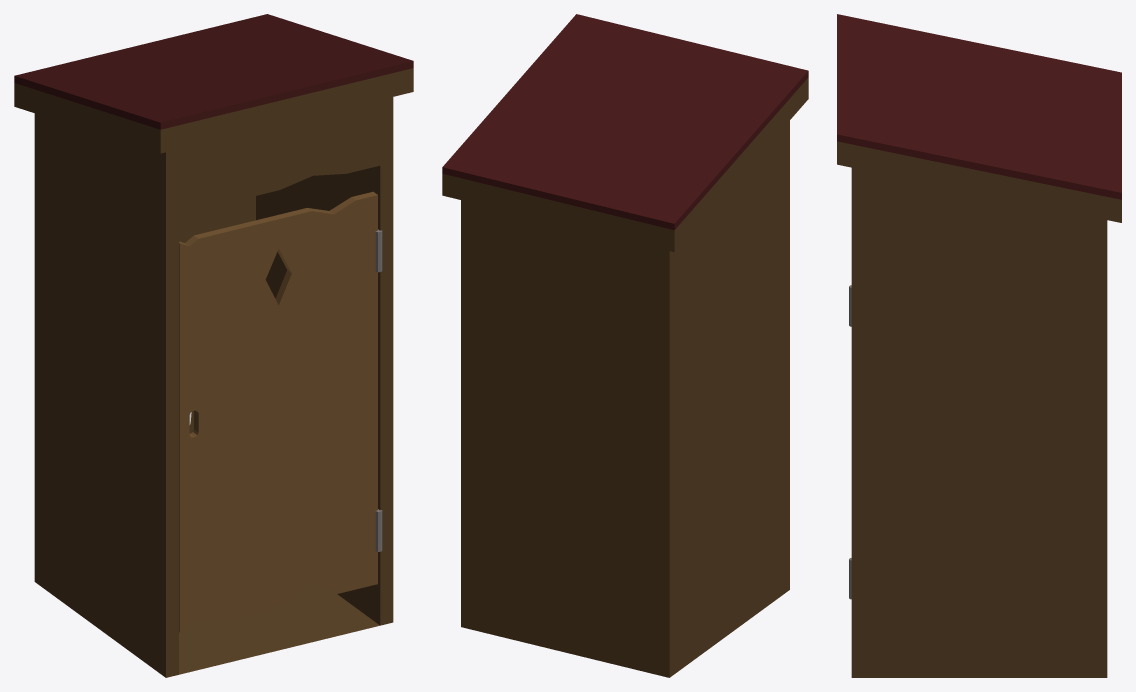
File: outhouse.fbx
3 views of the same model, side by side, from view 1: azimuth 30°, elevation 25°; view 2: azimuth 150°, elevation 25°; view 3: azimuth 270°, elevation 25° (orthographic). The views are drawn at different scales.
Visible parts, largest first — view 1: Outhouse, Outhouse Door; view 2: Outhouse; view 3: Outhouse.
Part boxes in pixels (left/top/right/bottom): Outhouse: left=14, top=14, right=413, bottom=677; Outhouse Door: left=179, top=191, right=377, bottom=632; Outhouse: left=442, top=14, right=808, bottom=677; Outhouse: left=837, top=14, right=1121, bottom=677.
Bounding box in the file's own units: 116 × 116 × 248.
